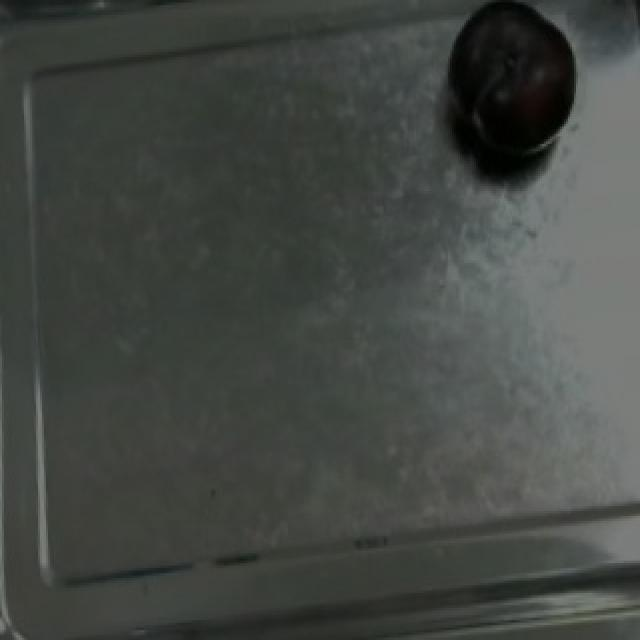Fruit: (440, 0, 588, 181)
